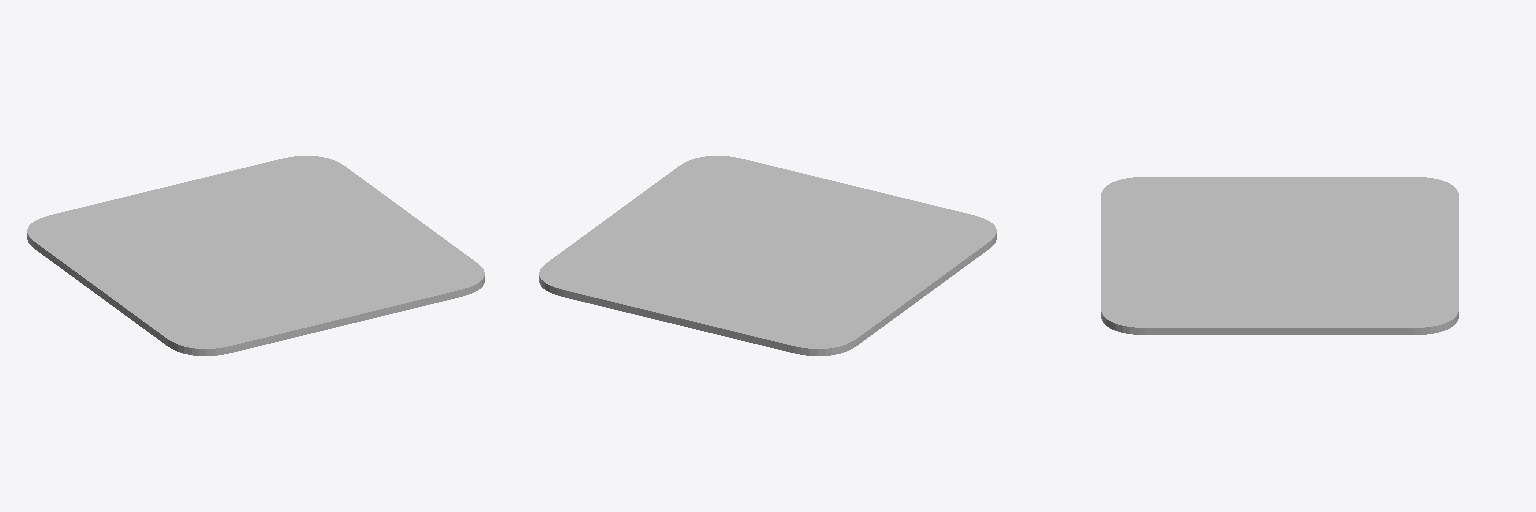
The model's file is ElavatorLift.obj.
3 renders of one model, left to right at view 1: azimuth 30°, elevation 25°; view 2: azimuth 150°, elevation 25°; view 3: azimuth 270°, elevation 25°, orthographic.
Visible parts, largest first — view 1: Plane.003_Plane.002_Plane.003_Plane.007; view 2: Plane.003_Plane.002_Plane.003_Plane.007; view 3: Plane.003_Plane.002_Plane.003_Plane.007.
Part boxes in pixels (left/top/right/bottom): Plane.003_Plane.002_Plane.003_Plane.007: left=27, top=156, right=484, bottom=355; Plane.003_Plane.002_Plane.003_Plane.007: left=539, top=156, right=996, bottom=355; Plane.003_Plane.002_Plane.003_Plane.007: left=1101, top=177, right=1458, bottom=334.
Size of the model in its own units: 3.88 by 0.086 by 3.88.